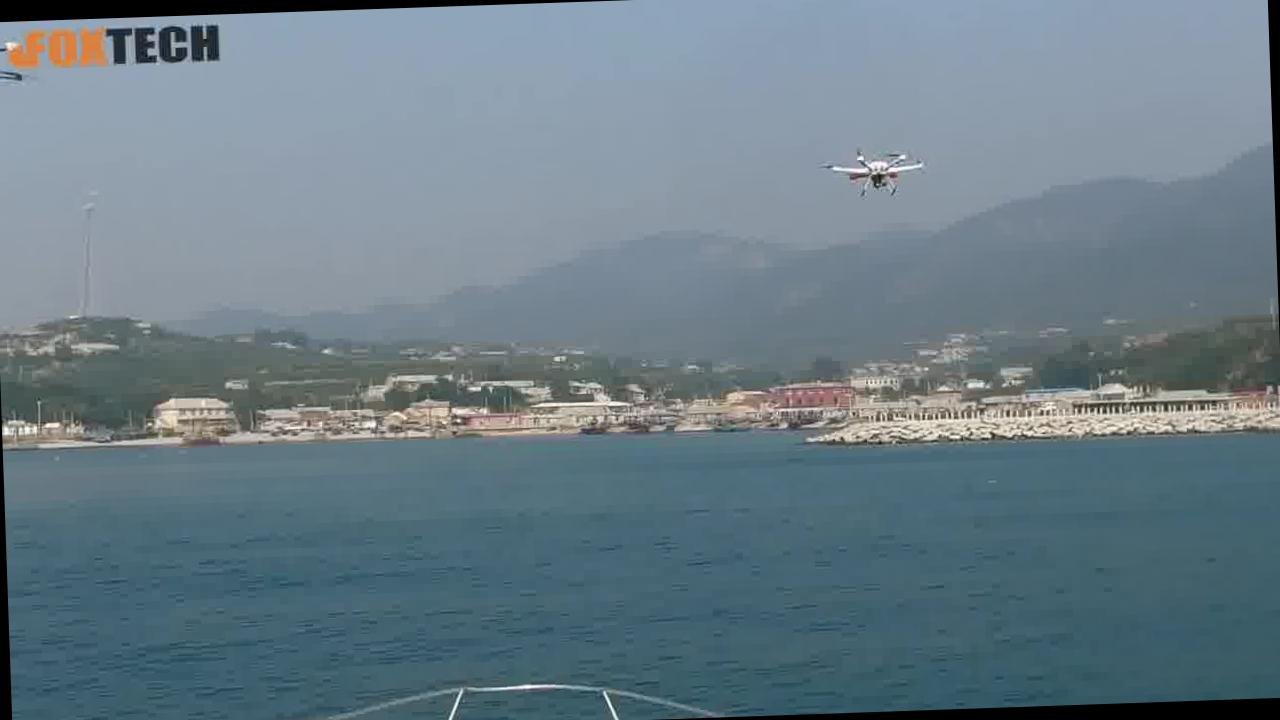drone: (819, 138, 946, 214)
